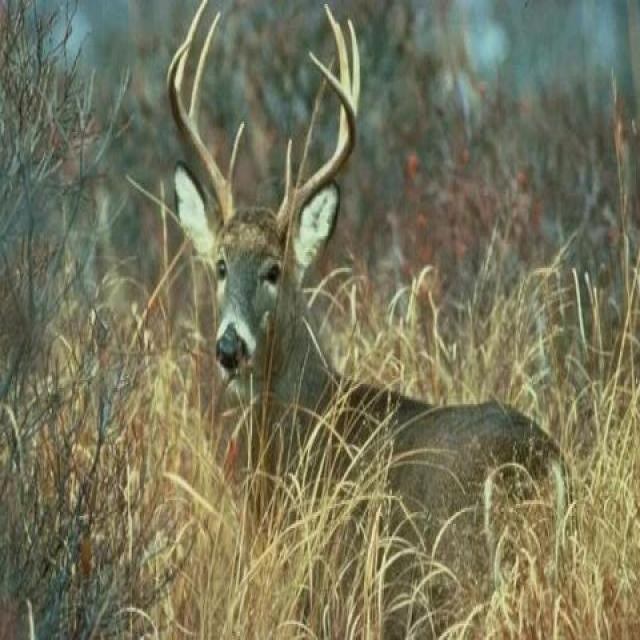deer: (197, 100, 589, 636)
